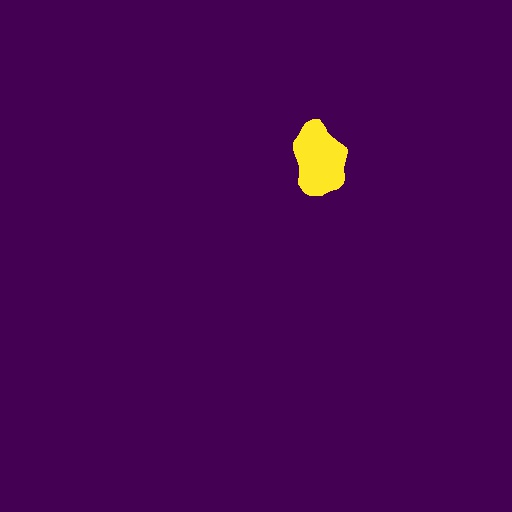Gliomia_tumour: (293, 119, 348, 196)
